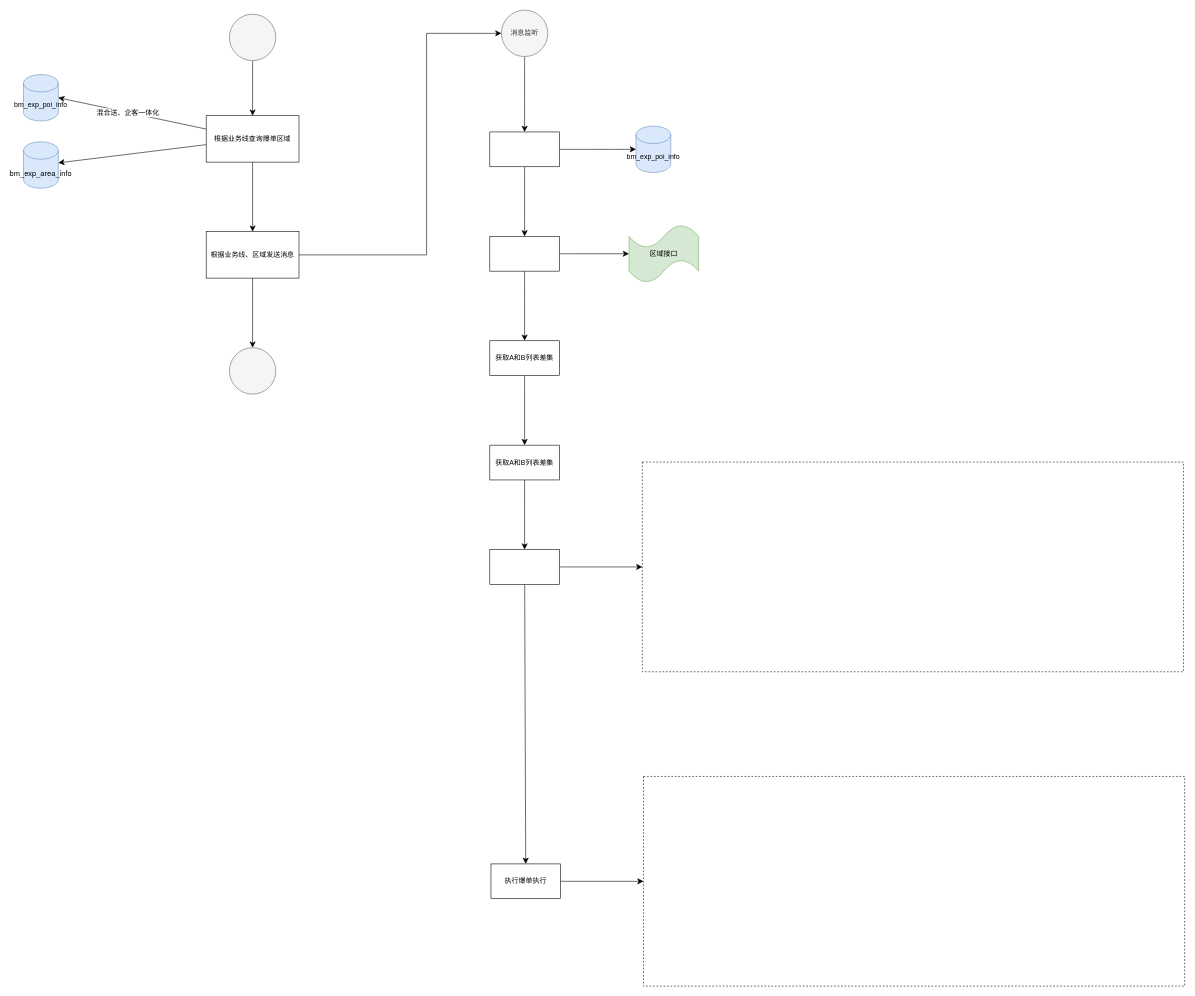
Image size: 1195x996. Some labels were removed from this diagram. Each missing label, with the box of its shape:
定时任务开始: (229, 14, 276, 61)
执行爆单恢复: (489, 549, 559, 584)
根据区域查询商家列表-A: (489, 131, 559, 167)
结束: (229, 347, 276, 394)
通过区域接口查询区域所在商家列表-B: (489, 236, 559, 271)
